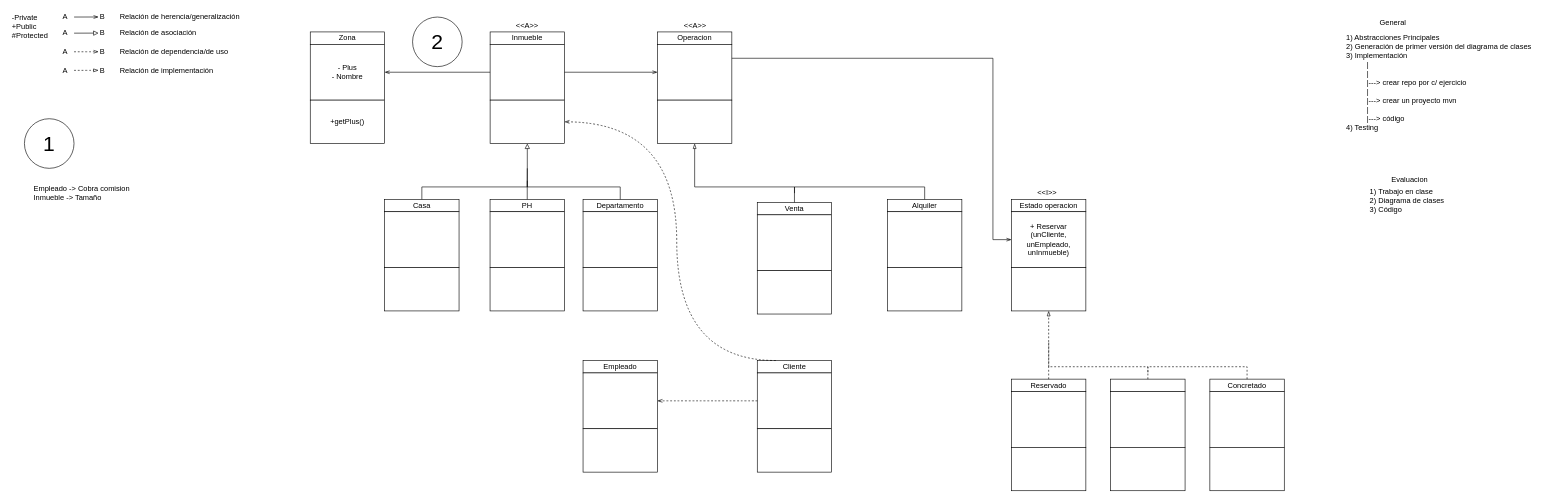
The diagram is 1548 pixels wide and 502 high, and some of its shapes have lost their labels. The centre of each missing label's shape, as x and y in pixels:
"+ PrecioPlus() + cambiarOperacion (Operacion)" belongs at point (527, 122).
"- Metros 2 - Ambientes - Zona - Operación" belongs at point (527, 72).
"- SolicitarReservaDe (unMueble, unEmpleado )" belongs at point (794, 400).
"No Reservado" belongs at point (1147, 385).
